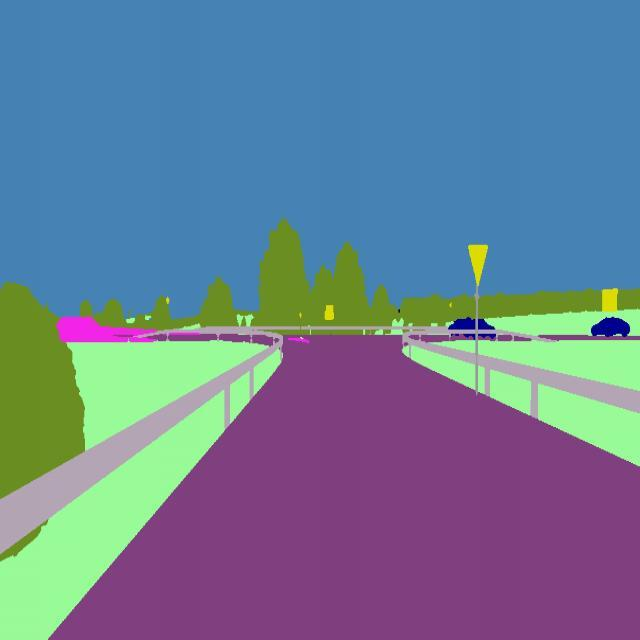safe: (586, 310, 640, 346), (444, 309, 502, 342)
